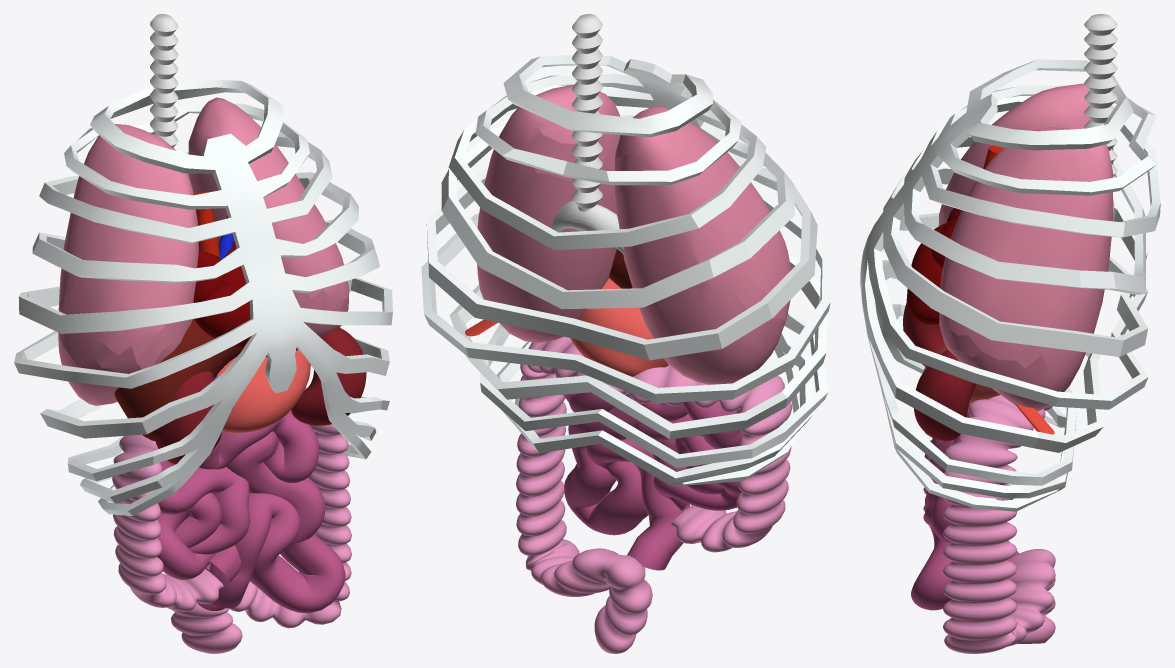
Rendered from finished Body Build.glb.
3 views of the same model, side by side, from view 1: azimuth 30°, elevation 25°; view 2: azimuth 150°, elevation 25°; view 3: azimuth 270°, elevation 25° (orthographic). The views are drawn at different scales.
Visible parts, largest first — view 1: Finished Body; view 2: Finished Body; view 3: Finished Body.
Part boxes in pixels (x1,y1,x2,y2): Finished Body: [14, 14, 392, 653]; Finished Body: [421, 14, 831, 653]; Finished Body: [860, 14, 1160, 653].
Bounding box in the file's own units: 13.36 × 22.58 × 9.88.
